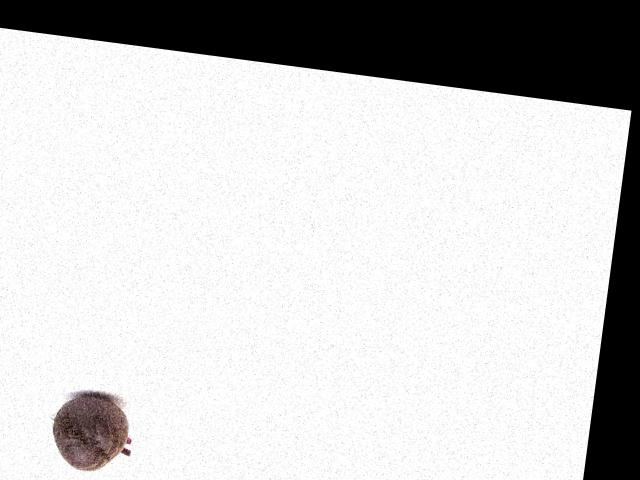beet: (46, 388, 136, 476)
